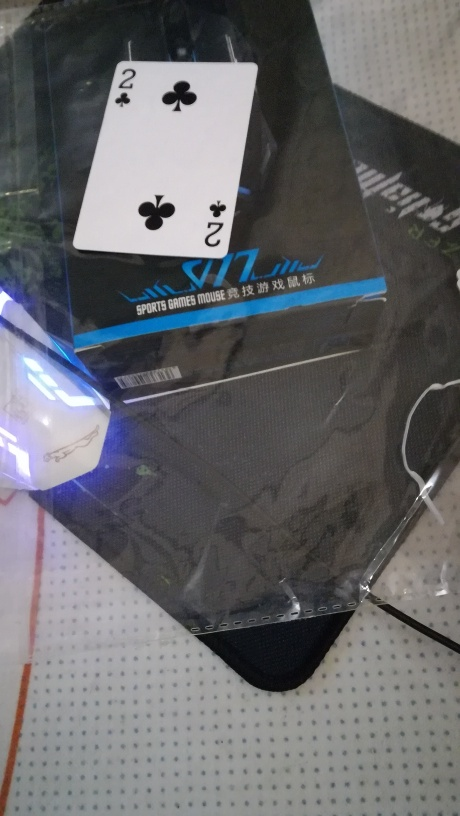mh 2: (70, 58, 262, 259)
